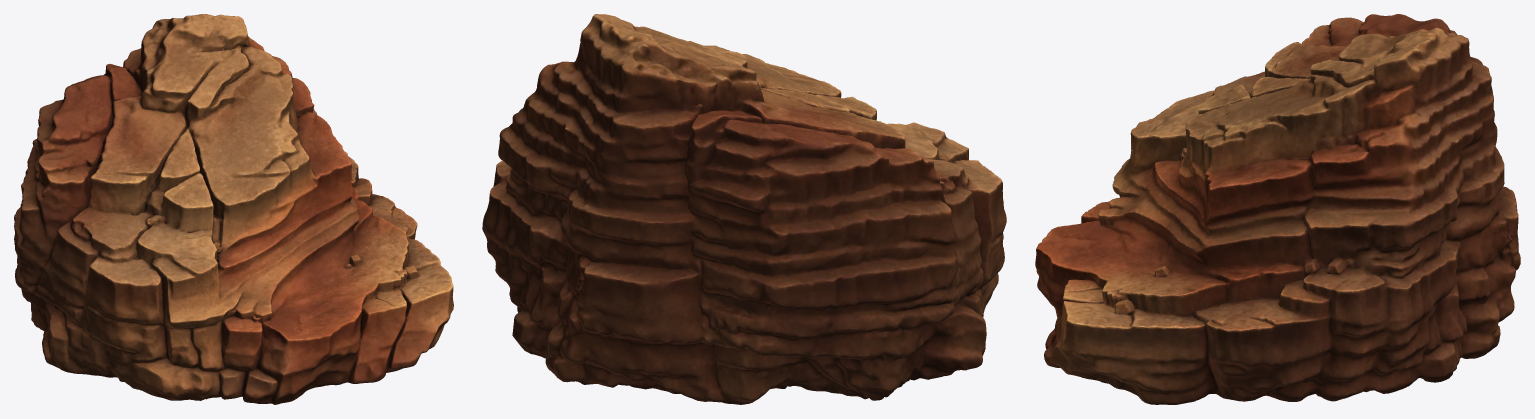
The model's file is media_1795020839426_cc5f33df.glb.
3 views of the same model, side by side, from view 1: azimuth 30°, elevation 25°; view 2: azimuth 150°, elevation 25°; view 3: azimuth 270°, elevation 25° (orthographic). The views are drawn at different scales.
Visible parts, largest first — view 1: world; view 2: world; view 3: world.
Part boxes in pixels (left/top/right/bottom): world: left=14, top=14, right=453, bottom=404; world: left=482, top=14, right=1006, bottom=404; world: left=1035, top=14, right=1520, bottom=404.
Size of the model in its own units: 0.9984 by 0.6843 by 0.9944.
1 material, 1 textured.
